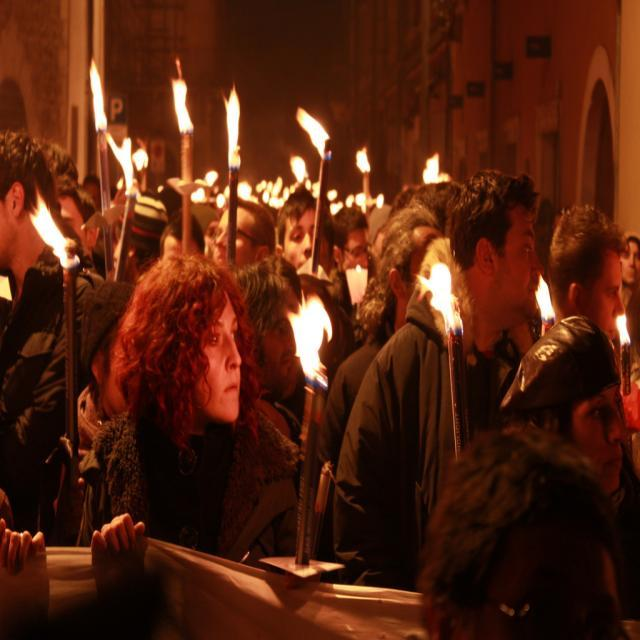Fire: (294, 294, 342, 382), (416, 266, 470, 326), (30, 196, 68, 252), (297, 106, 327, 158), (228, 95, 246, 172), (524, 278, 556, 316), (614, 317, 632, 347)
